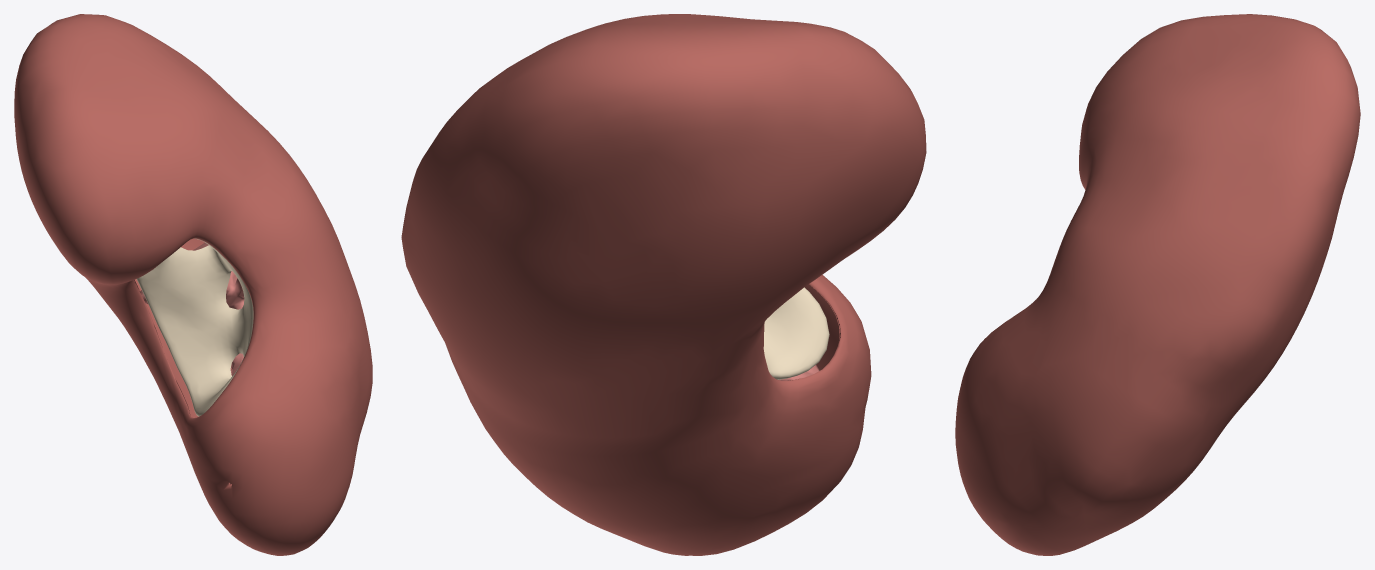
Rendered from kidney.glb.
The picture shows the model from 3 angles, left to right: view 1: azimuth 30°, elevation 25°; view 2: azimuth 150°, elevation 25°; view 3: azimuth 270°, elevation 25°; orthographic projection. The views are drawn at different scales.
Parts seen in each view (by area): view 1: Kidney_capsule, Renal_hilum, Renal_pyramids; view 2: Kidney_capsule, Renal_hilum; view 3: Kidney_capsule.
Part boxes in pixels (x1=…): Kidney_capsule: x1=14, y1=14, x2=372, y2=555; Renal_hilum: x1=136, y1=238, x2=253, y2=416; Renal_pyramids: x1=140, y1=242, x2=244, y2=375; Kidney_capsule: x1=401, y1=14, x2=926, y2=555; Renal_hilum: x1=763, y1=287, x2=829, y2=379; Kidney_capsule: x1=955, y1=14, x2=1360, y2=555.
Bounding box in the file's own units: 1.42 × 2 × 1.55.
